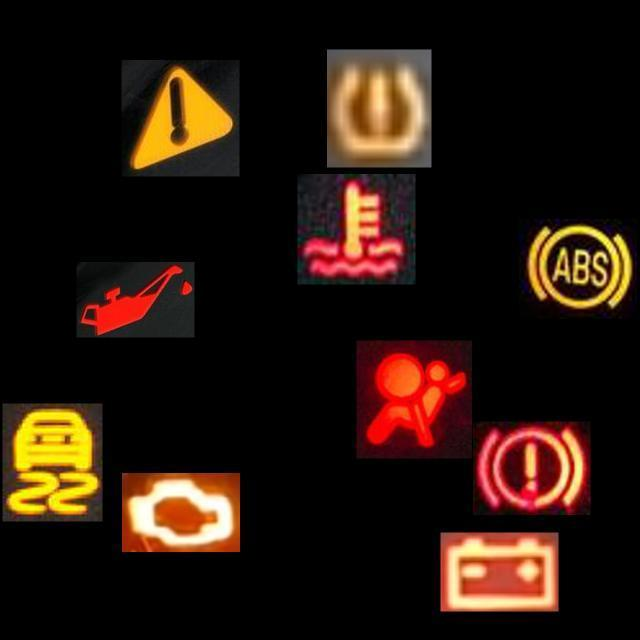Central Warning lamp: (122, 60, 240, 176)
Engine cooling system: (298, 173, 416, 284)
